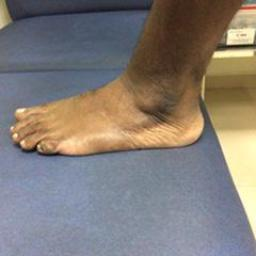Lateral View -Left Foot-: (3, 52, 224, 161)
